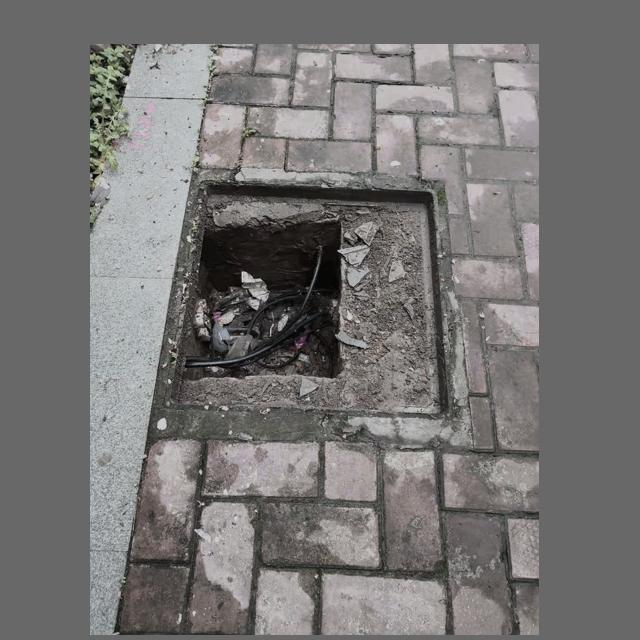broke: (159, 177, 457, 417)
